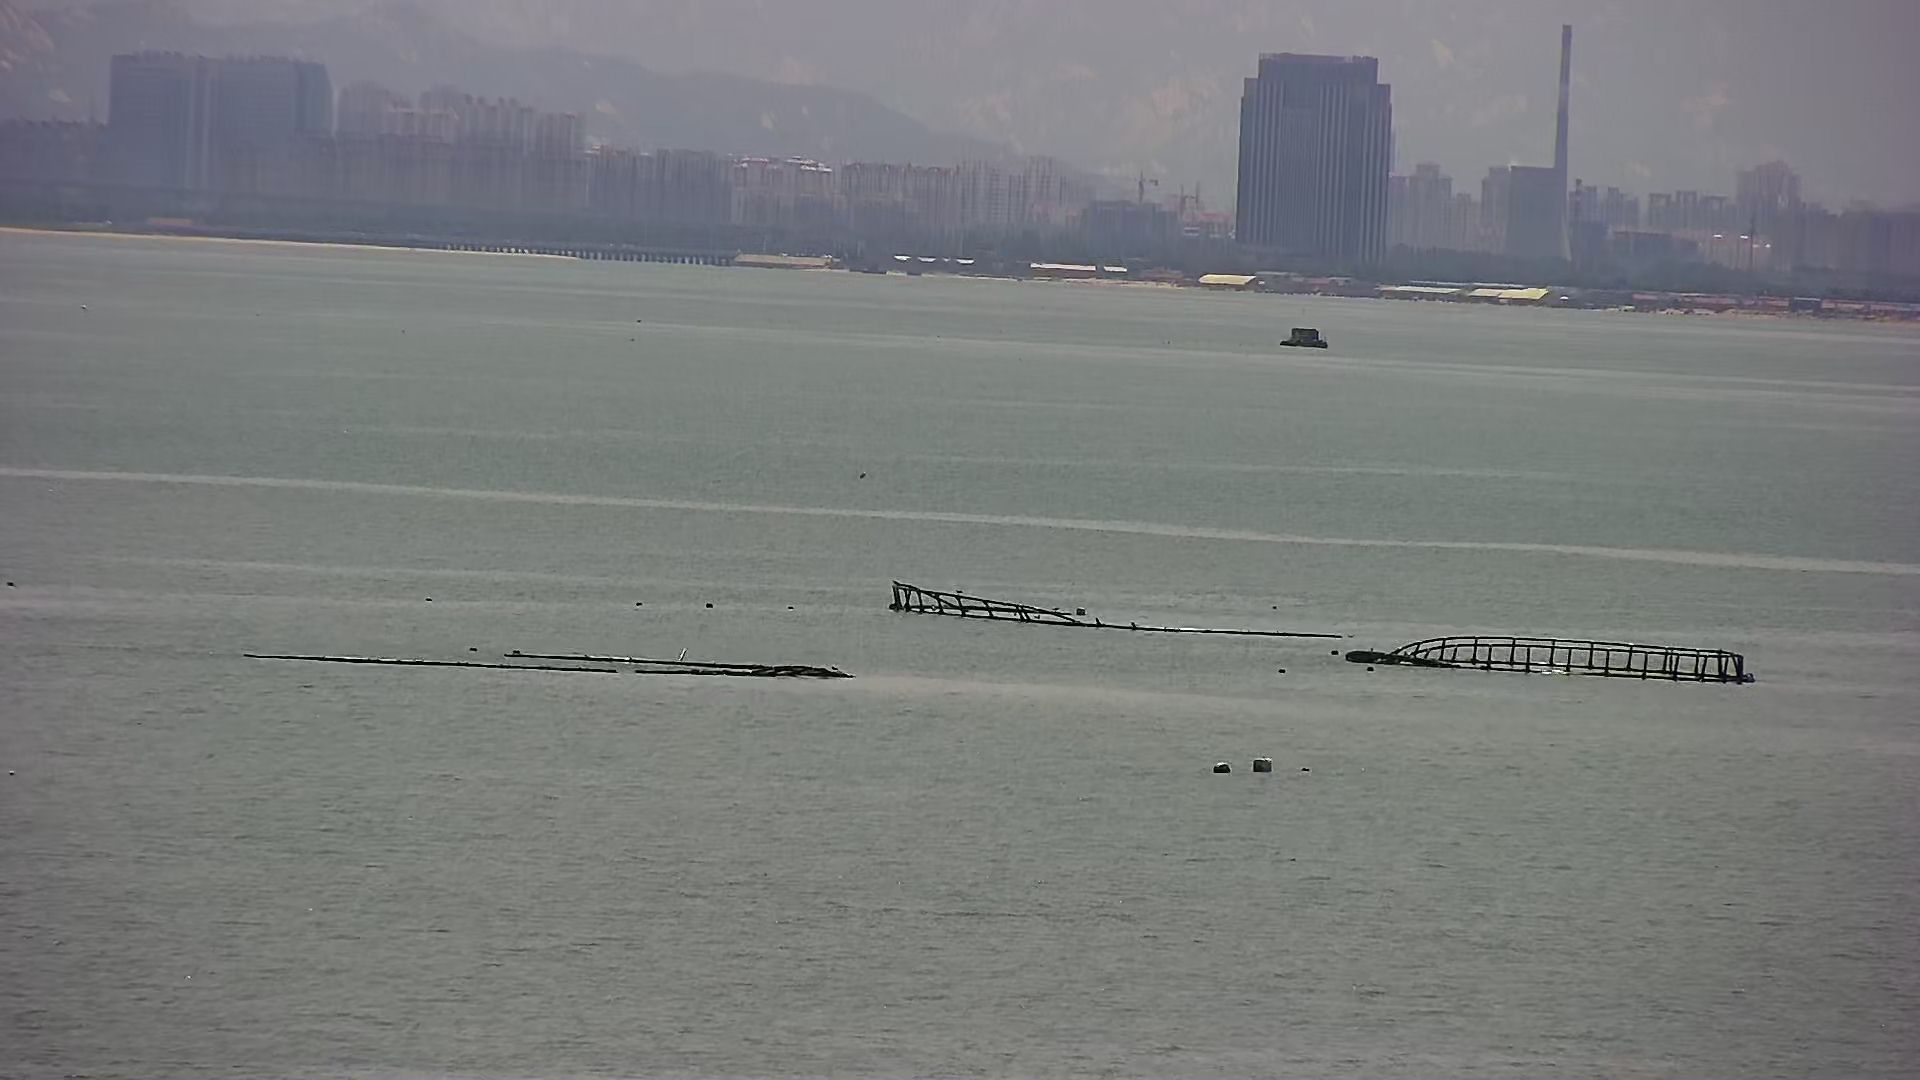ball: (1208, 753, 1275, 775)
buoy: (1278, 322, 1332, 349)
rubbish: (885, 578, 1759, 683), (236, 649, 855, 683)
